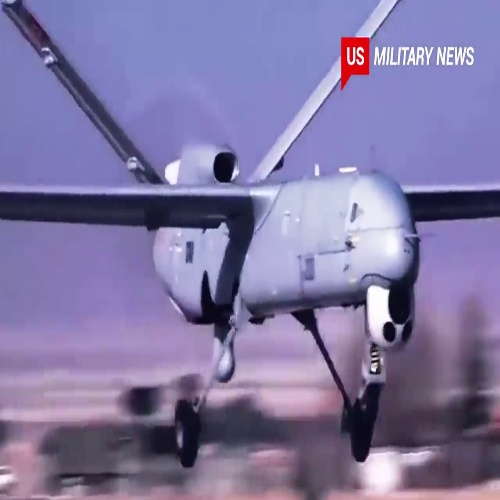uav: (1, 2, 500, 468)
